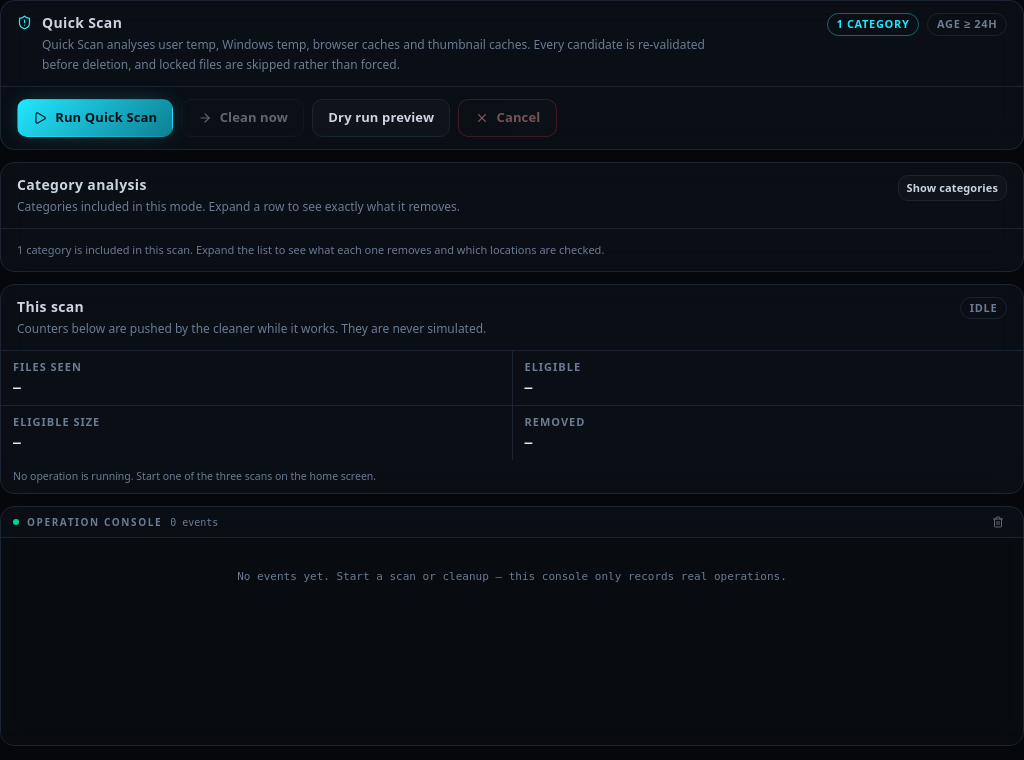
Test: Clean page flow › shows scan-phase skip reasons with their counts
This screenshot has width=1024, height=760.
Click the button "Run Quick Scan". click: [95, 118]
box: [17, 99, 174, 136]
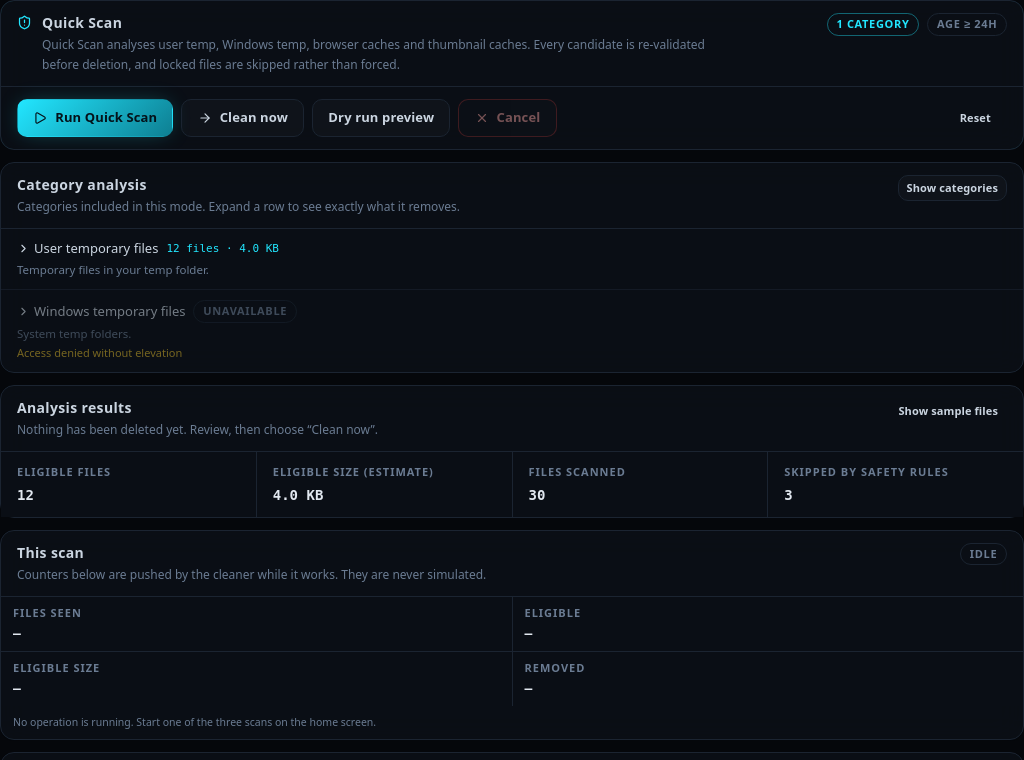
expect the heading "Analysis results" is shown: met, box [17, 398, 132, 417]
# Expand the sample table, which carries the aggregated skip reasons.
Click the button "Show sample files". click: [948, 411]
box: [889, 398, 1007, 424]
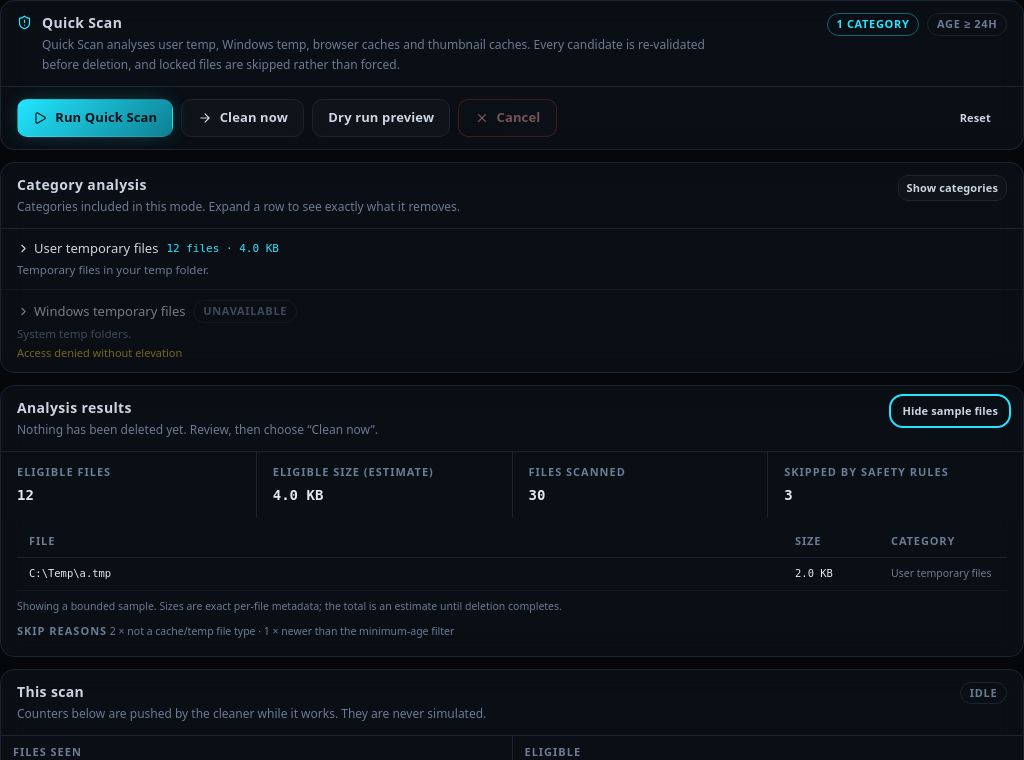
expect the text "newer than the minimum-age filter" is shown: met, box [110, 624, 454, 638]
